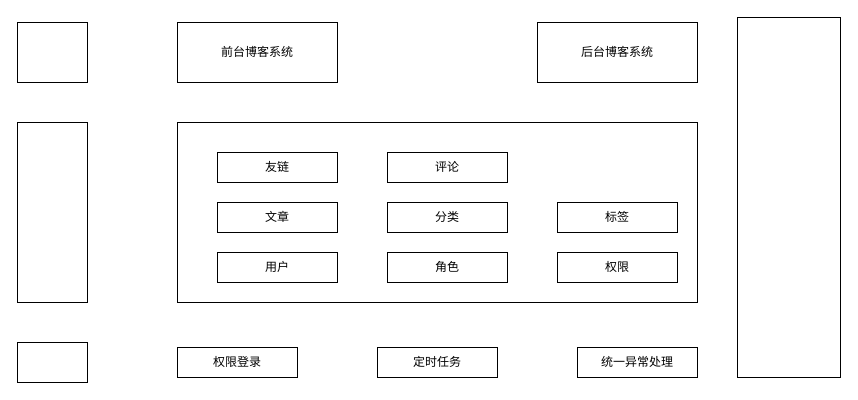
Image size: 858x400. Some labels were removed from this diagram. The centre of each missing label's shape, as x and y in pixels:
"业务层" goes at point (52, 52).
"服务支持" goes at point (52, 362).
"核心功能" goes at point (52, 212).
"统一日志处理" goes at point (788, 197).
